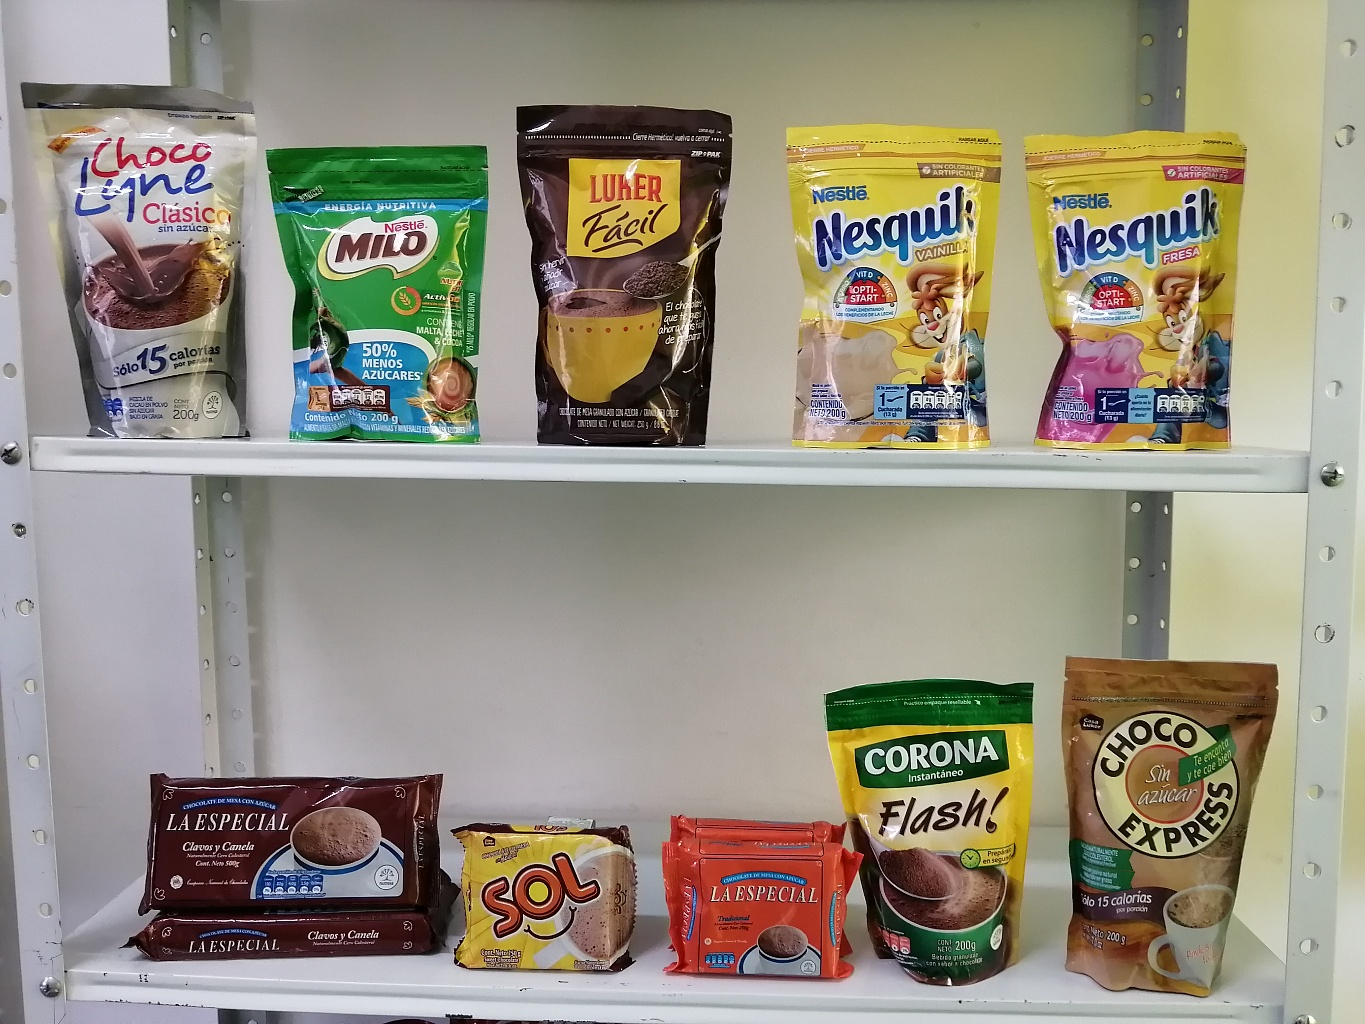COL0170205DYP20000: (264, 136, 500, 442)
COL0170305DYP20000: (1027, 129, 1248, 449)
COL0170306DYP20000: (778, 127, 996, 453)
